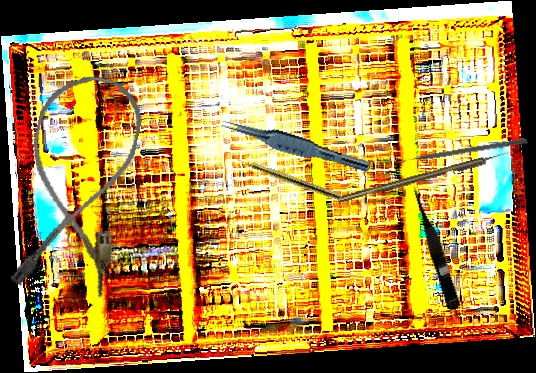Cannula: (4, 65, 149, 304)
Handpiece: (231, 153, 342, 202)
Hook Surgical: (336, 150, 512, 204)
Micro Scissor: (407, 181, 465, 312)
Pusher: (395, 136, 528, 165)
Tissue Forceps: (217, 115, 374, 174)
